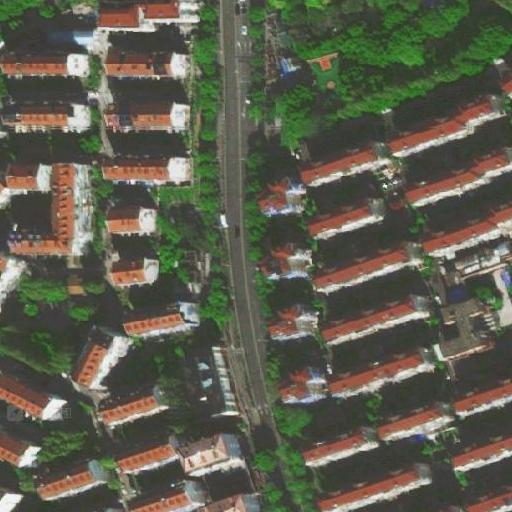building: (10, 163, 92, 258), (393, 89, 504, 157), (408, 142, 512, 209), (327, 292, 432, 346), (331, 346, 436, 399), (320, 462, 429, 510), (320, 239, 418, 290), (426, 198, 511, 255), (441, 293, 499, 359), (184, 342, 235, 416), (304, 143, 386, 187), (73, 322, 126, 389), (442, 236, 512, 285), (381, 398, 457, 443), (101, 383, 175, 429), (1, 365, 66, 417), (313, 197, 388, 240), (306, 425, 380, 466), (184, 435, 245, 480), (45, 461, 112, 501), (126, 303, 200, 339), (104, 1, 192, 31), (455, 431, 512, 476), (118, 432, 178, 472), (8, 99, 92, 127), (455, 377, 512, 417), (2, 50, 87, 76), (132, 483, 208, 512), (112, 101, 188, 130), (110, 156, 188, 184), (112, 49, 189, 77), (280, 365, 335, 403), (258, 176, 308, 215), (264, 238, 313, 276), (272, 303, 323, 338), (111, 257, 159, 288), (111, 204, 160, 233), (461, 485, 511, 511), (7, 160, 53, 188), (1, 258, 28, 305), (424, 439, 454, 480), (45, 20, 98, 43), (209, 491, 265, 512), (179, 249, 206, 291), (381, 179, 408, 216), (279, 53, 306, 88), (66, 498, 126, 512), (59, 283, 92, 302), (0, 181, 13, 212)
